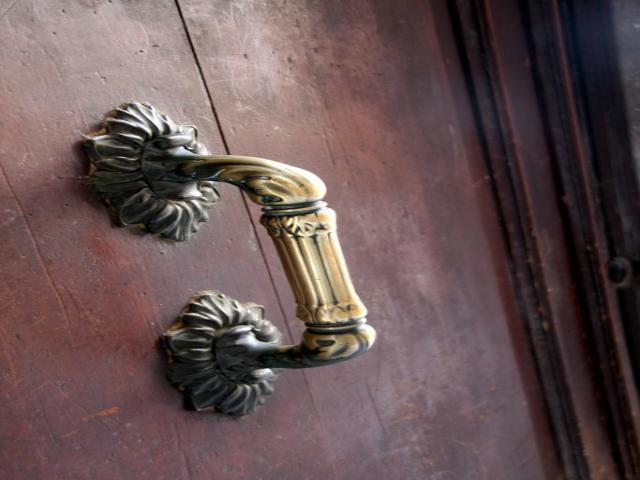Door-handle: (83, 100, 380, 418)
